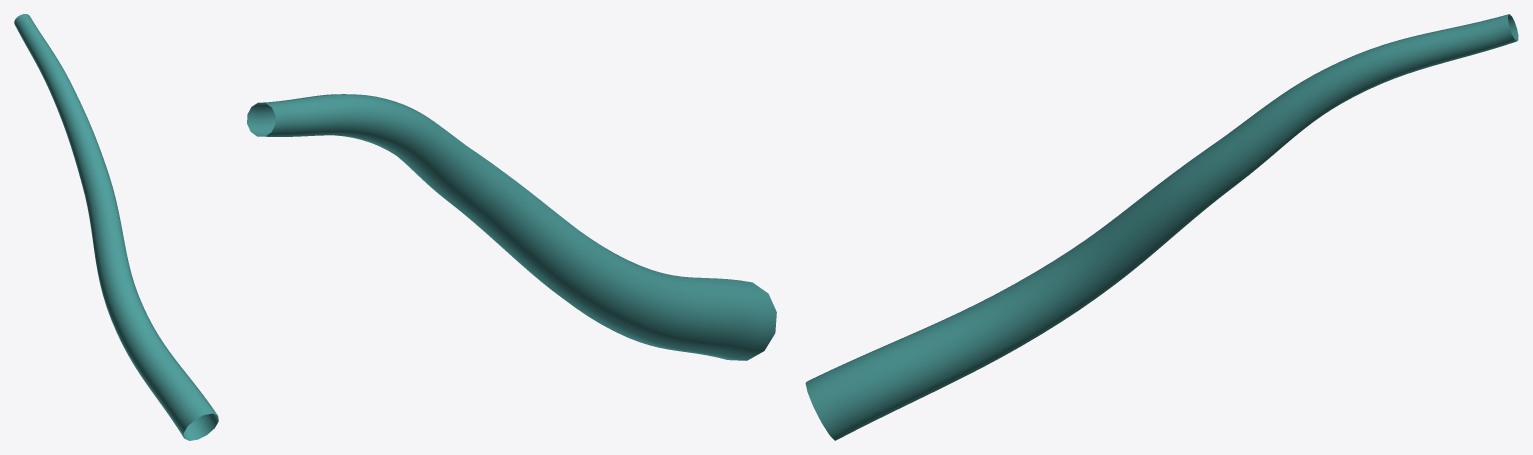
The picture shows the model from 3 angles, left to right: view 1: azimuth 30°, elevation 25°; view 2: azimuth 150°, elevation 25°; view 3: azimuth 270°, elevation 25°; orthographic projection. The views are drawn at different scales.
Parts seen in each view (by area): view 1: 左肺后底段支气管（第10段）; view 2: 左肺后底段支气管（第10段）; view 3: 左肺后底段支气管（第10段）.
Boxes of the visible parts, x1,y1,x2,y2 form: 左肺后底段支气管（第10段）: [14, 14, 218, 440]; 左肺后底段支气管（第10段）: [247, 94, 776, 360]; 左肺后底段支气管（第10段）: [805, 14, 1518, 440].
Bounding box in the file's own units: 0.0175 × 0.0754 × 0.1091.
